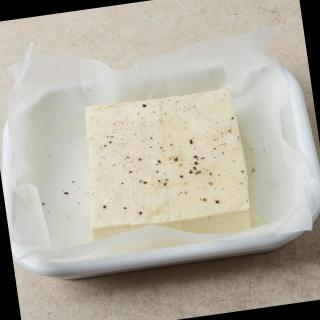Tahu: (64, 77, 282, 256)
